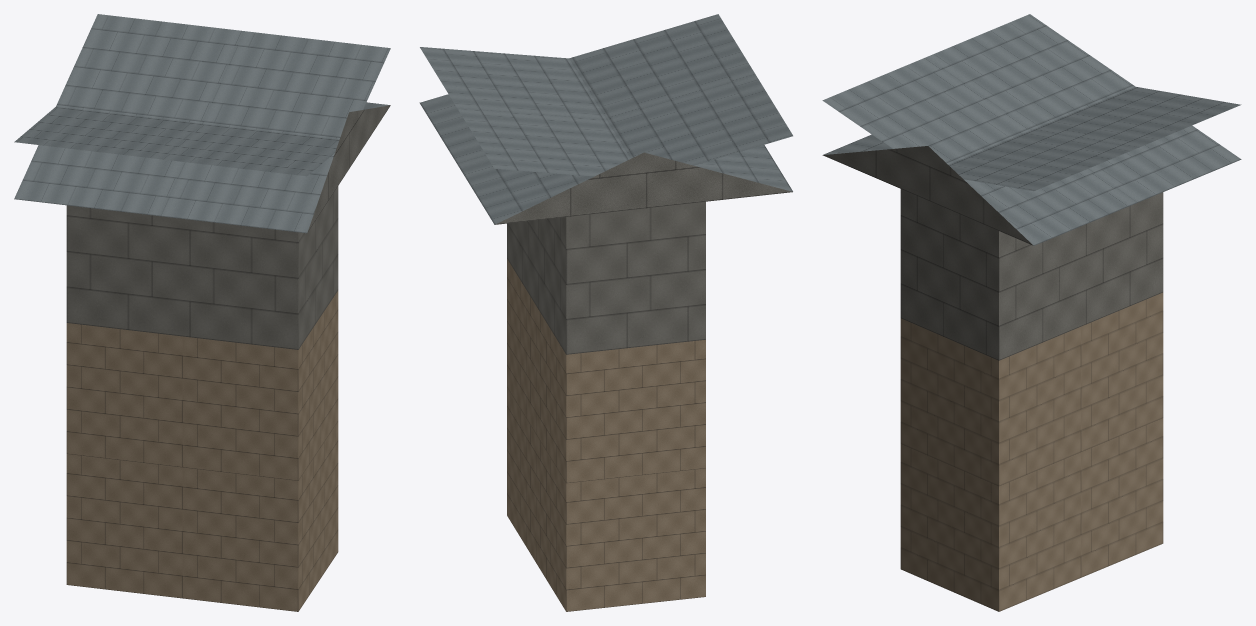
File: bld_c-2_-3_553.gltf
3 renders of one model, left to right at view 1: azimuth 30°, elevation 25°; view 2: azimuth 150°, elevation 25°; view 3: azimuth 270°, elevation 25°, orthographic. The views are drawn at different scales.
Visible parts, largest first — view 1: bld_c-2_-3_553; view 2: bld_c-2_-3_553; view 3: bld_c-2_-3_553.
Part boxes in pixels (x1,y1,x2,y2): bld_c-2_-3_553: (14,14,390,611); bld_c-2_-3_553: (419,14,792,611); bld_c-2_-3_553: (822,14,1241,611).
Size of the model in its own units: 6.95 by 8.3 by 6.95.
Materials: 4 (4 with a texture image).
